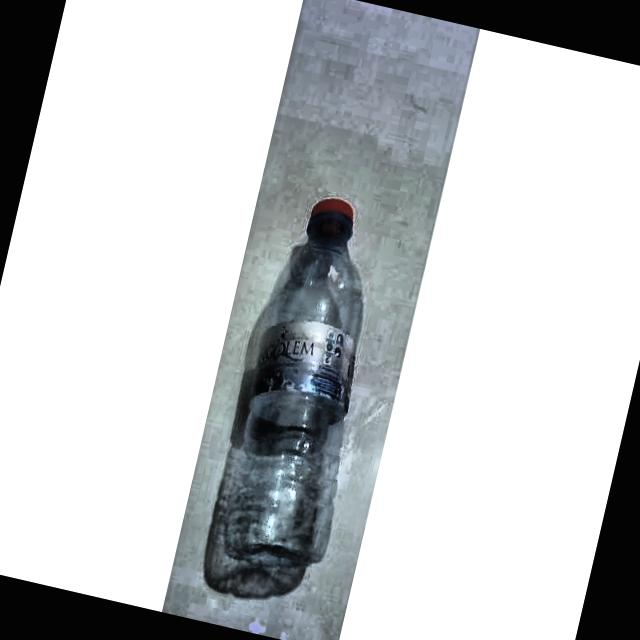plastic bottle: (203, 198, 363, 600)
